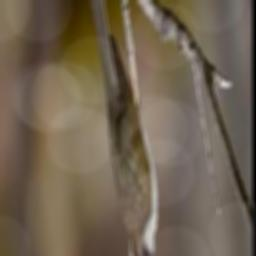Cuckoo: (80, 0, 163, 256)
